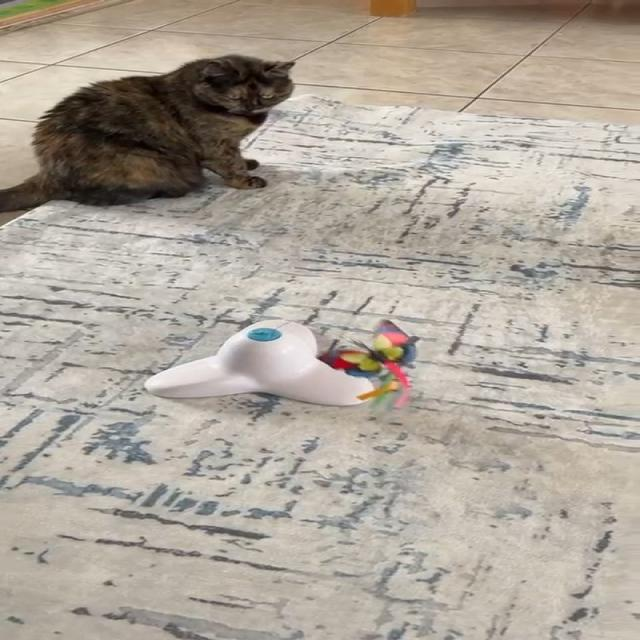authorized: (0, 53, 296, 213)
